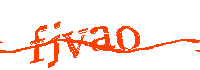a: (89, 24, 115, 52)
f: (30, 24, 45, 64)
j: (48, 22, 62, 67)
o: (115, 24, 142, 51)
v: (63, 28, 87, 58)
